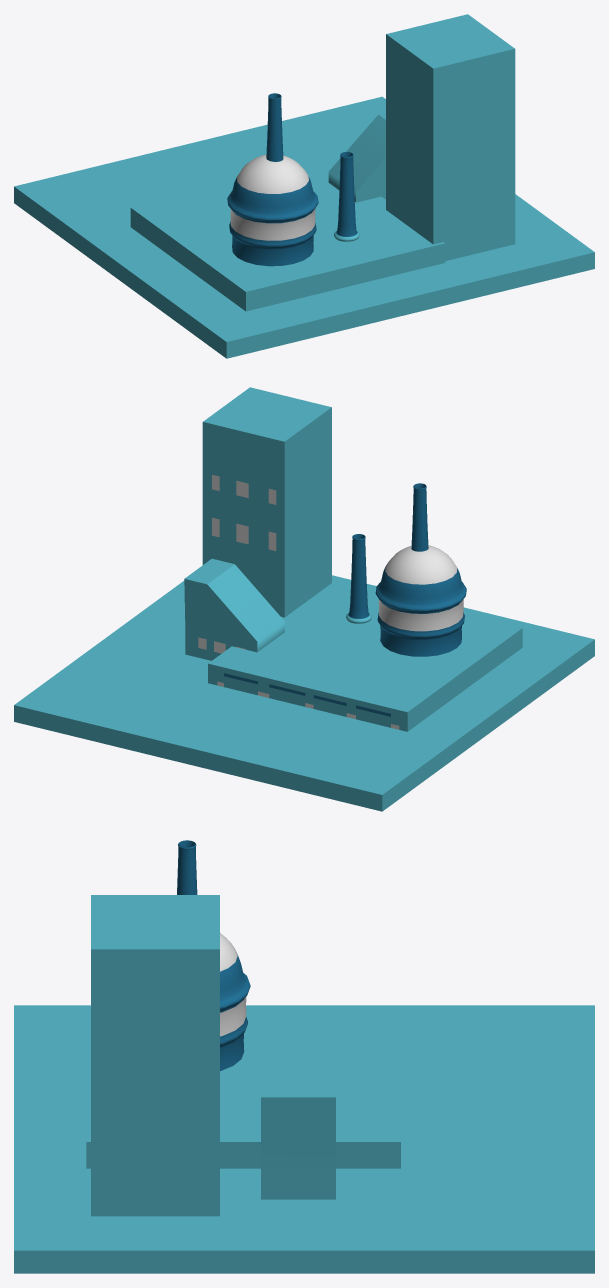
The model's file is factory_building-10.gltf.
3 views of the same model, one above another, from view 1: azimuth 30°, elevation 25°; view 2: azimuth 150°, elevation 25°; view 3: azimuth 270°, elevation 25° (orthographic). The views are drawn at different scales.
Visible parts, largest first — view 1: pCube14, pCube41, pCube48, pSphere13, pCube31, pCylinder14, pCylinder15; view 2: pCube14, pCube41, pCube48, pSphere13, pCube31, pCylinder14, pCylinder15; view 3: pCube14, pCube41, pCube48, pCube31, pSphere13, pCylinder15.
Boxes of the visible parts, box(x1,y1,x2,y2) form: pCube14: box(14, 96, 594, 358); pCube41: box(386, 14, 515, 260); pCube48: box(130, 159, 445, 311); pSphere13: box(227, 154, 318, 266); pCube31: box(328, 112, 385, 202); pCylinder14: box(334, 152, 359, 241); pCylinder15: box(266, 93, 283, 161); pCube14: box(14, 575, 594, 811); pCube41: box(202, 387, 331, 617); pCube48: box(208, 581, 522, 731); pSphere13: box(375, 545, 466, 656); pCube31: box(184, 558, 284, 660); pCylinder14: box(346, 534, 371, 623); pCylinder15: box(411, 483, 428, 551); pCube14: box(14, 1005, 594, 1273); pCube41: box(91, 895, 219, 1216); pCube48: box(86, 1009, 400, 1168); pCube31: box(261, 1082, 335, 1199); pSphere13: box(220, 933, 250, 1070); pCylinder15: box(177, 840, 197, 894).
Bounding box in the file's own units: 1.47 × 0.9188 × 1.47.
